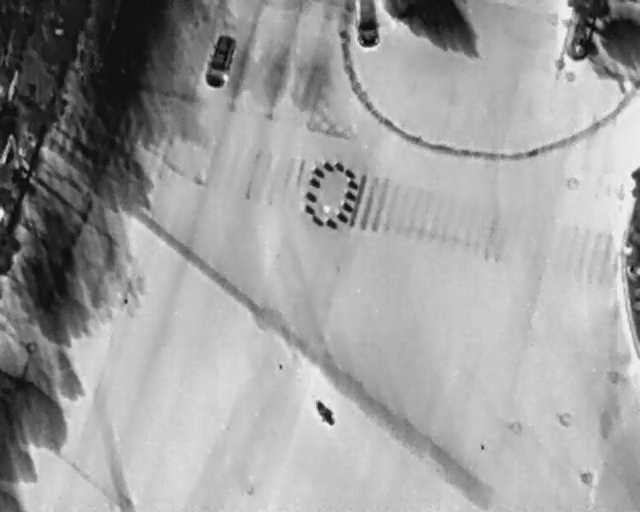Bicycle: (311, 395, 339, 430)
Car: (202, 30, 239, 90), (356, 0, 380, 50)
